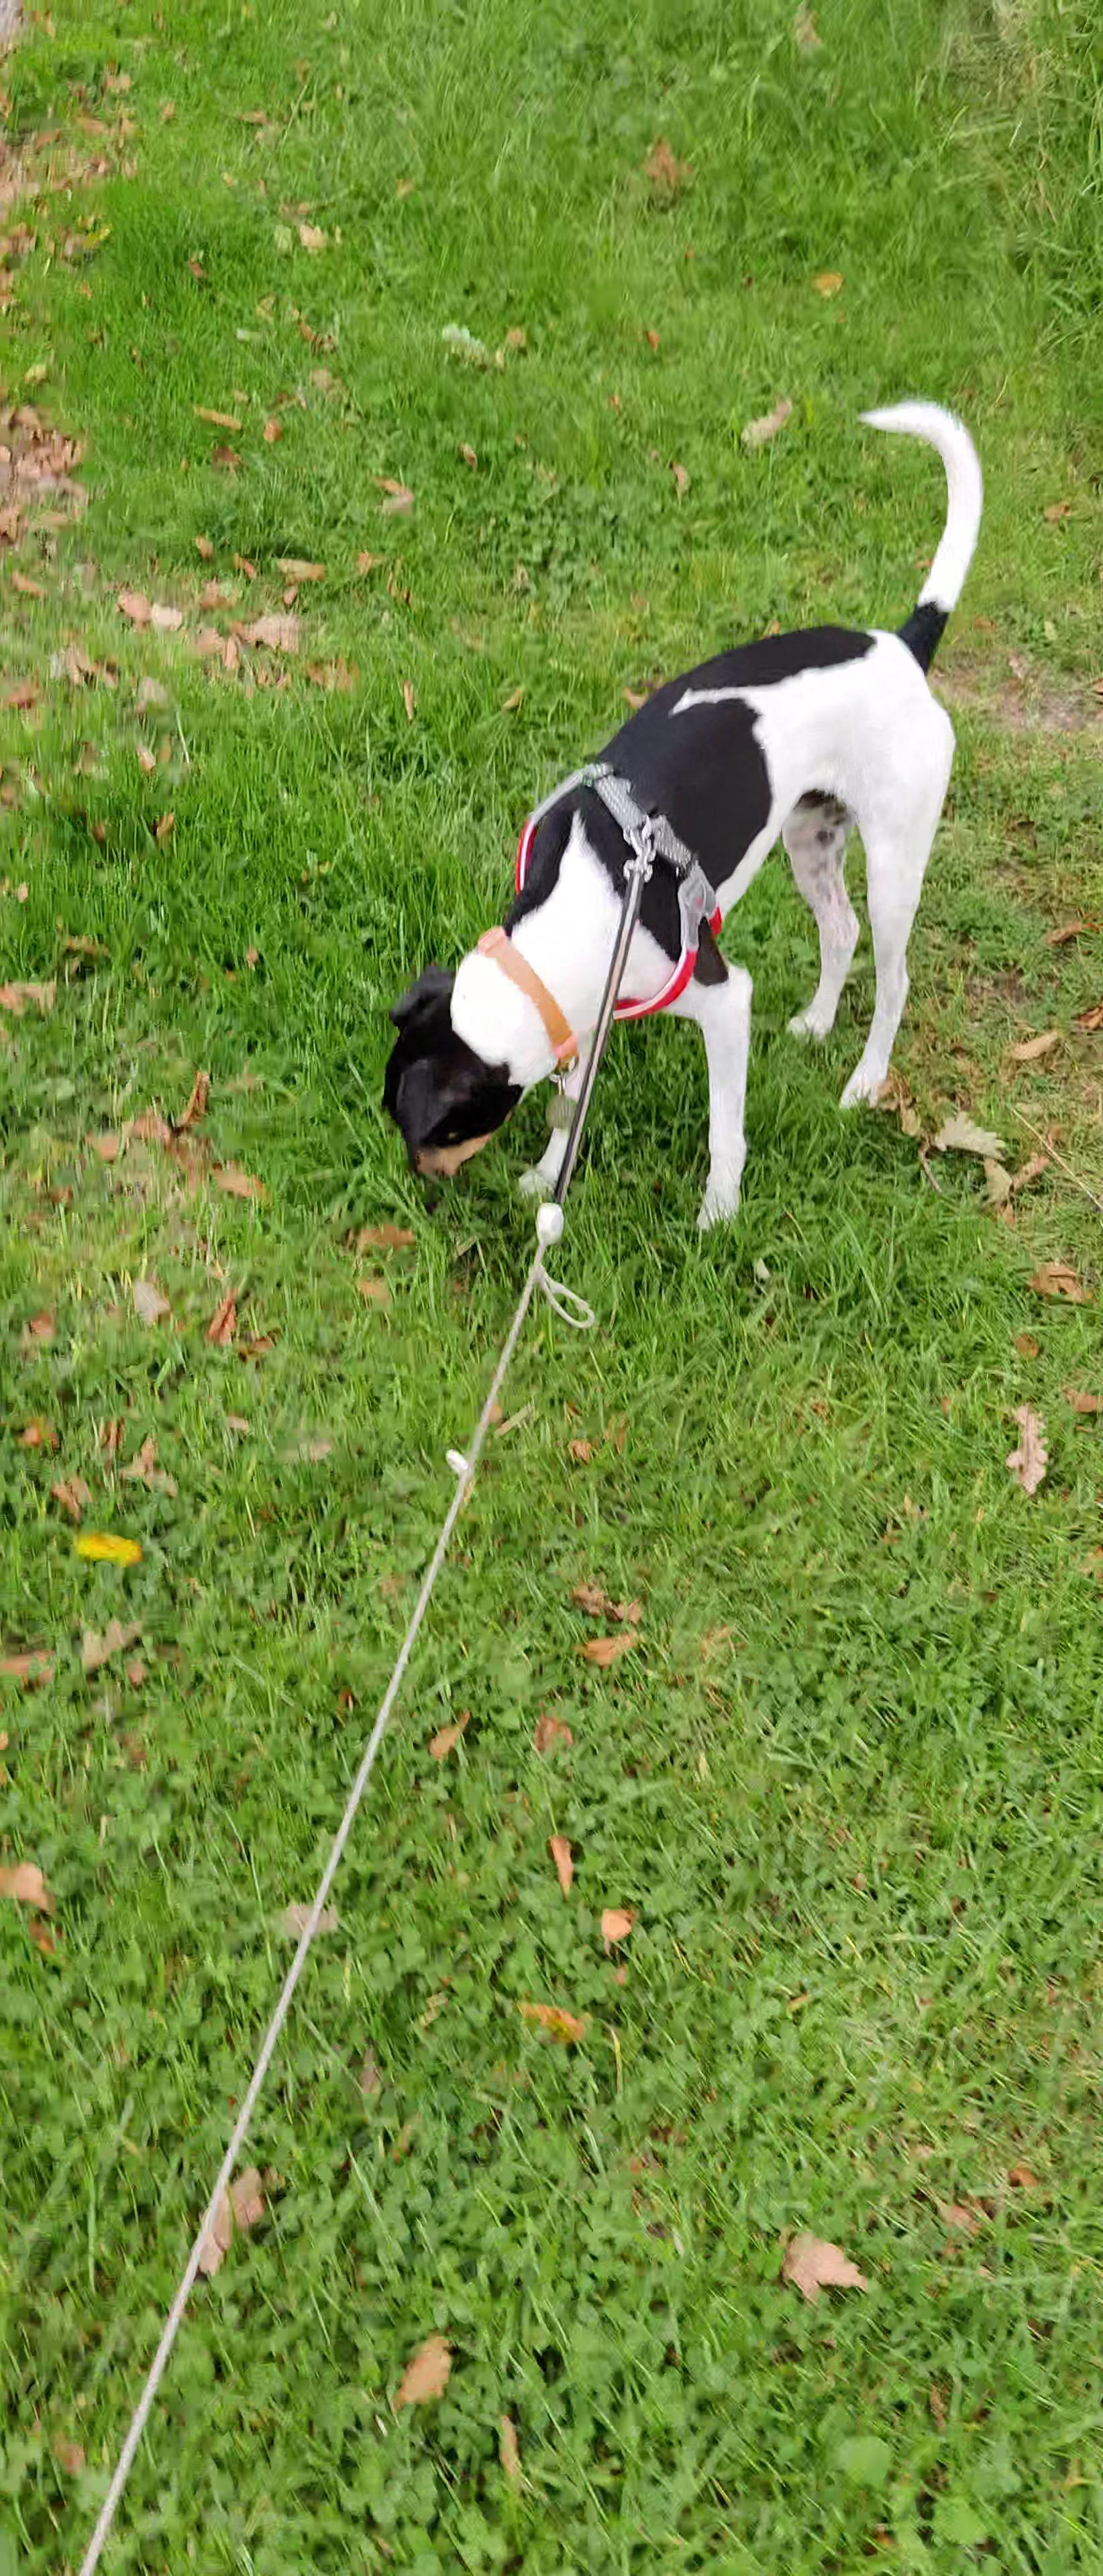Dog: (363, 376, 999, 1262)
